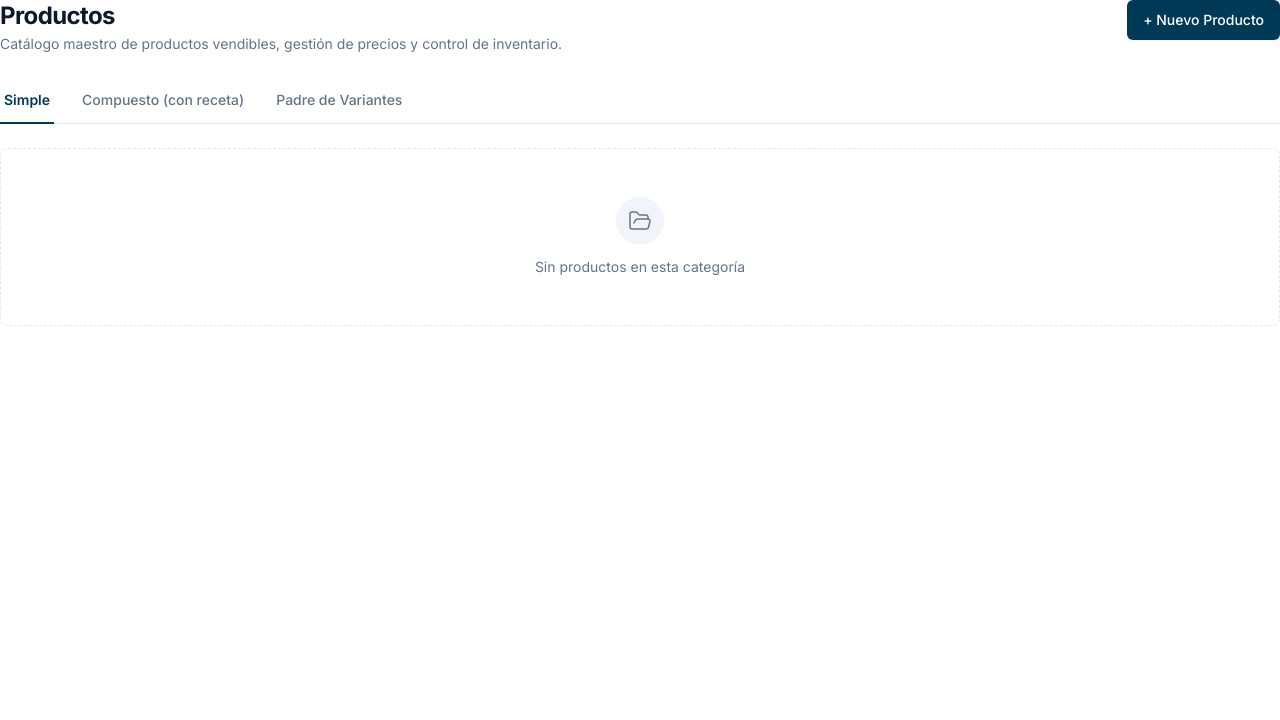
W5 — ProductPage create dialog › opens create dialog when clicking new button
Step 1. Click the button "+ Nuevo Producto" → (1204, 20), box [1127,0,1279,40]
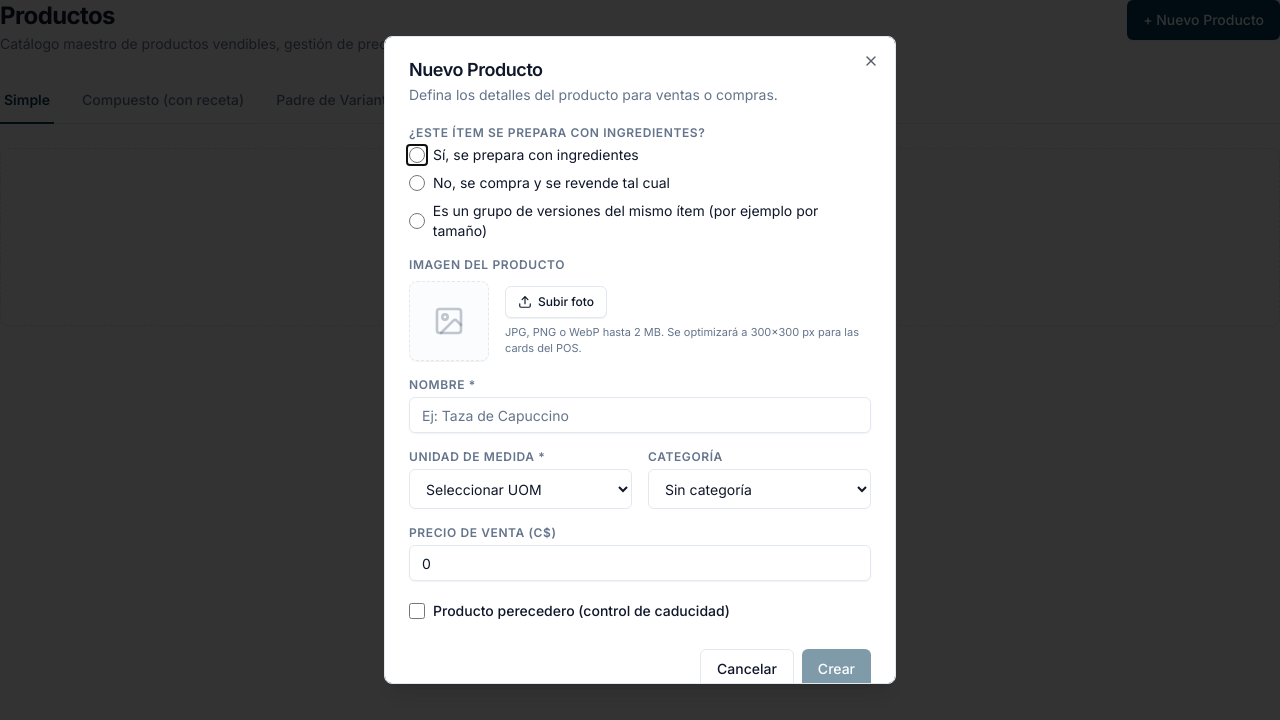
Expected: the heading "Nuevo Producto" is shown, [409,59,543,80]
Expected: the text "Nombre *" is shown, [409,377,476,392]
Expected: the text "Unidad de Medida *" is shown, [409,449,545,464]
